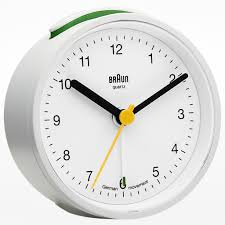alarm_clock: (2, 7, 220, 219), (2, 13, 220, 219), (8, 13, 220, 219)
